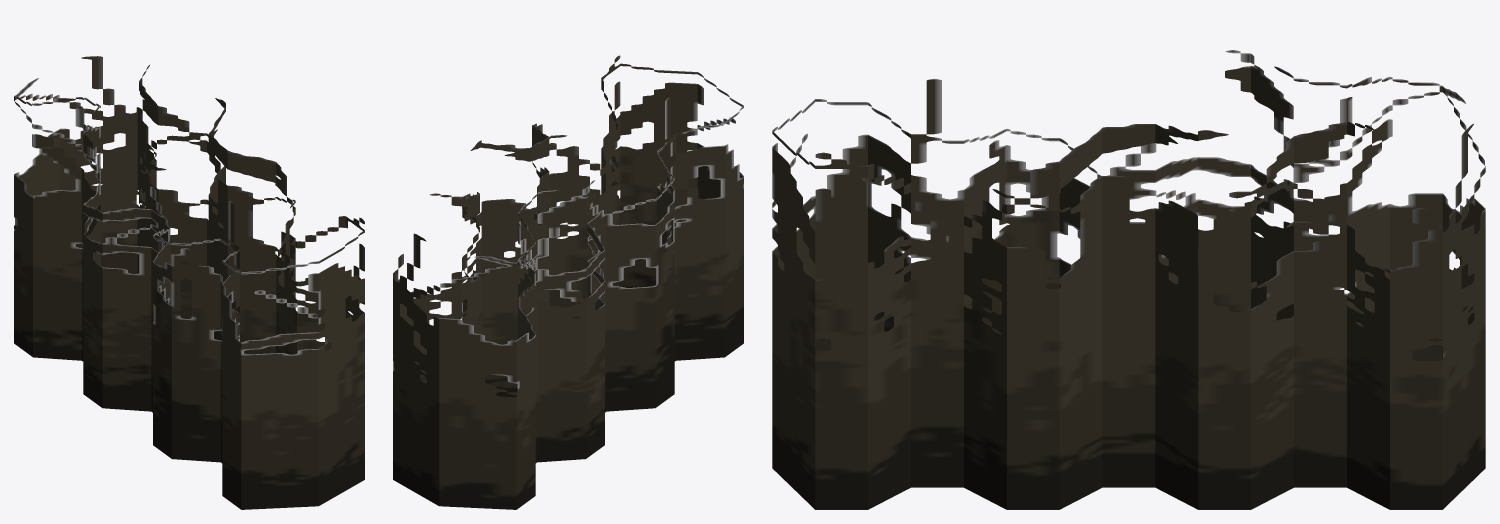
The model's file is Foliage2V2FBX.fbx.
3 renders of one model, left to right at view 1: azimuth 30°, elevation 25°; view 2: azimuth 150°, elevation 25°; view 3: azimuth 270°, elevation 25°, orthographic. The views are drawn at different scales.
Parts seen in each view (by area): view 1: FoliageB.001; view 2: FoliageB.001; view 3: FoliageB.001.
Boxes of the visible parts, x1=… form: FoliageB.001: x1=14, y1=56, x2=364, y2=509; FoliageB.001: x1=393, y1=55, x2=743, y2=509; FoliageB.001: x1=772, y1=50, x2=1485, y2=509.
Bounding box in the file's own units: 457 × 1059 × 1659.
